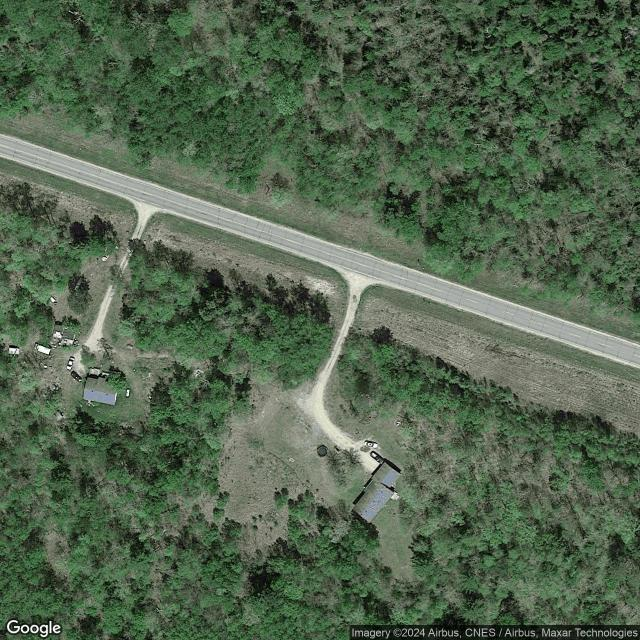Propane: (124, 387, 132, 399)
